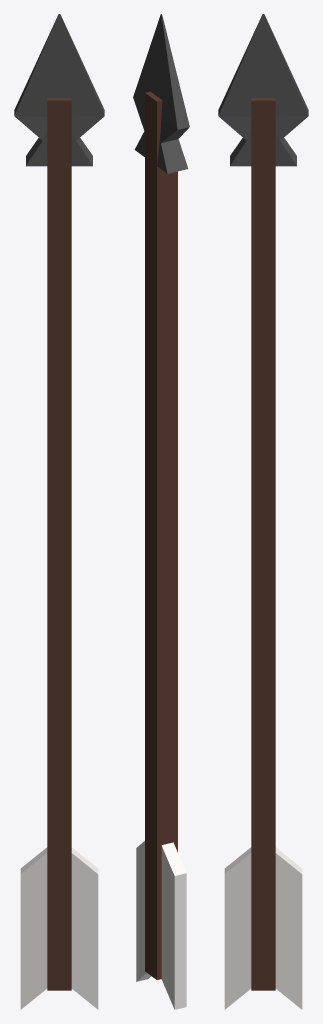
File: Arrow.fbx
The picture shows the model from 3 angles, left to right: view 1: azimuth 90°, elevation 25°; view 2: azimuth 210°, elevation 25°; view 3: azimuth 270°, elevation 25°; orthographic projection.
Visible parts, largest first — view 1: Arrow; view 2: Arrow; view 3: Arrow.
Boxes of the visible parts, x1,y1,x2,y2 form: Arrow: (14,14,104,1009); Arrow: (133,14,189,1009); Arrow: (218,14,308,1009).
Bounding box in the file's own units: 0.075 × 3.38 × 0.2791.
